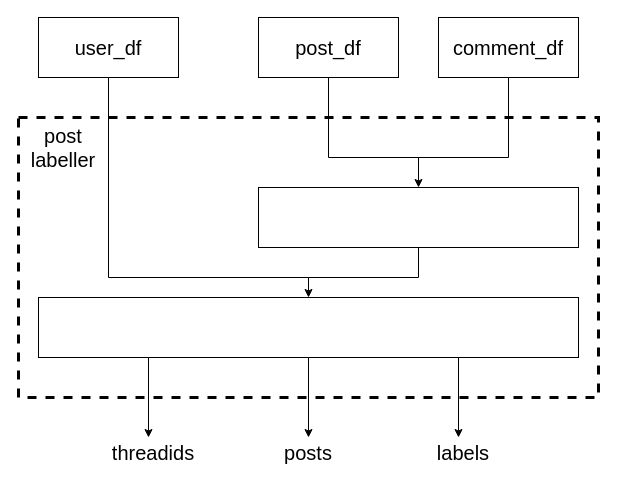
The diagram is 617 pixels wide and 485 high, and some of its shapes have lost their labels. The centre of each missing label's shape, as x and y in pixels:
combinator (comment / timestamp): point 418,217
intervention model (GIM / PIMM / SIM): point 308,327
